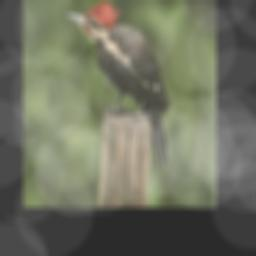Woodpecker: (63, 0, 179, 173)
